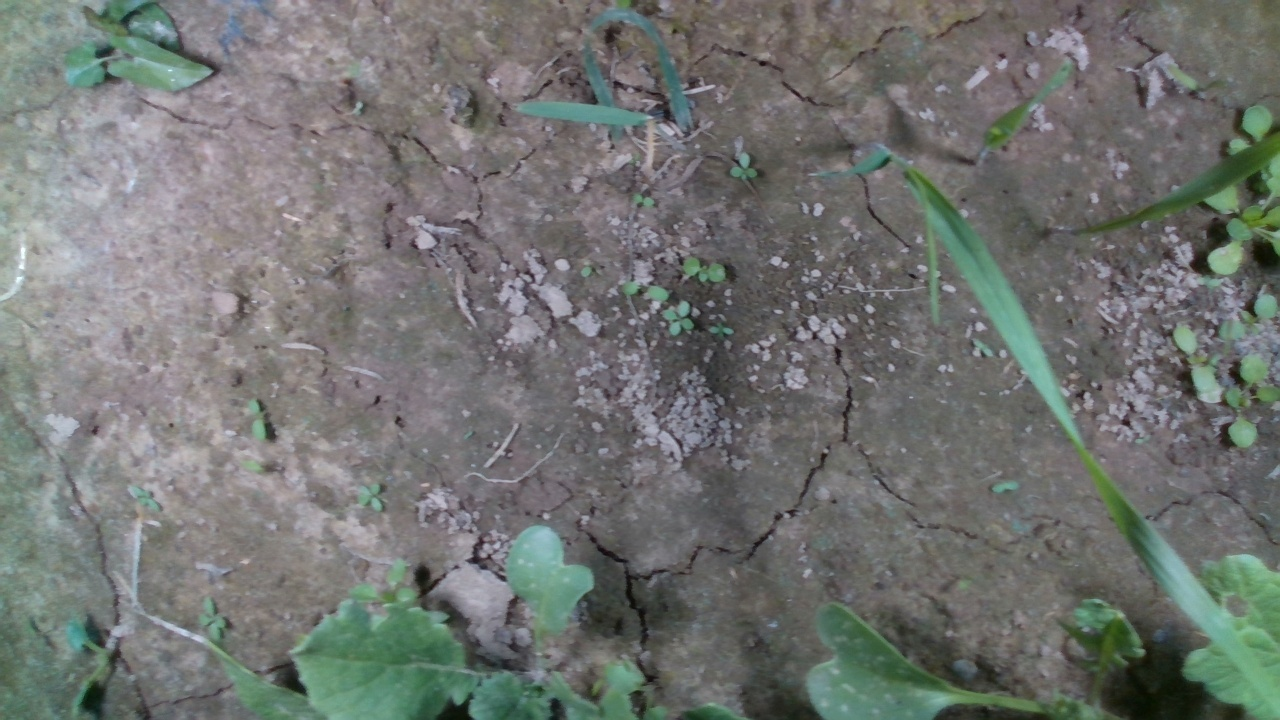weed: (192, 597, 231, 642), (350, 478, 386, 519), (678, 254, 728, 283), (664, 297, 698, 336), (247, 396, 270, 444), (619, 279, 669, 301), (730, 151, 759, 182)
